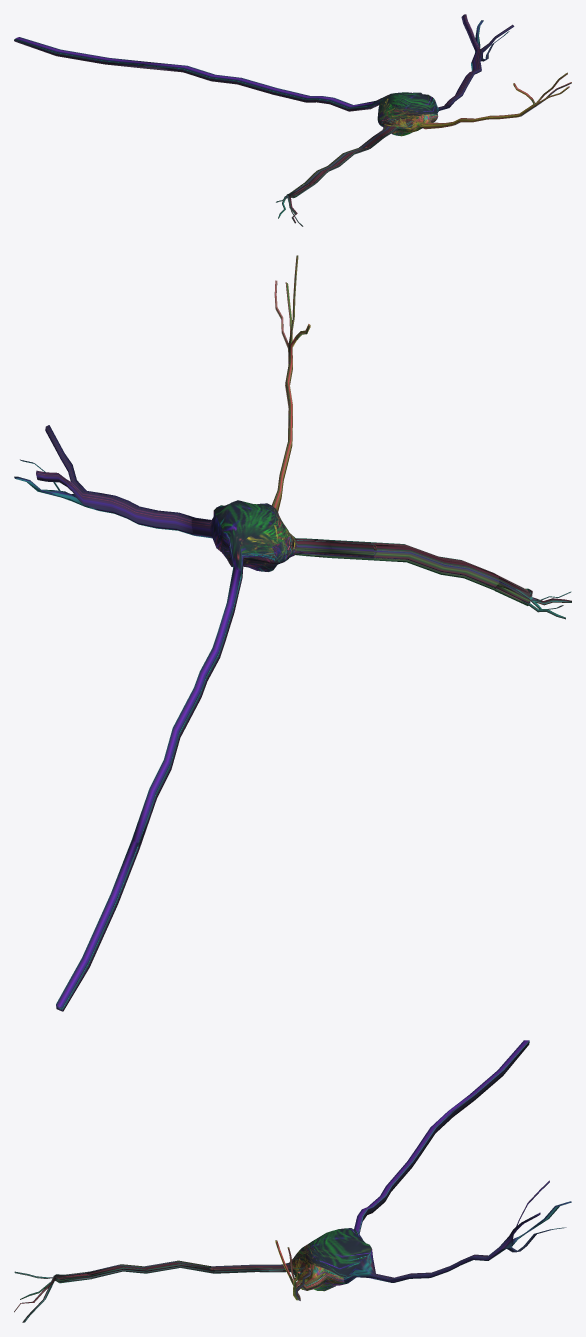
The model's file is lastneuron16.fbx.
3 renders of one model, top to bottom at view 1: azimuth 30°, elevation 25°; view 2: azimuth 150°, elevation 25°; view 3: azimuth 330°, elevation 25°, orthographic. The views are drawn at different scales.
Visible parts, largest first — view 1: duplicated ex; view 2: duplicated ex; view 3: duplicated ex.
Boxes of the visible parts, x1,y1,x2,y2 form: duplicated ex: (14, 14, 571, 226); duplicated ex: (14, 255, 571, 1011); duplicated ex: (14, 1040, 571, 1322).
Bounding box in the file's own units: 19235 × 11073 × 39980.
